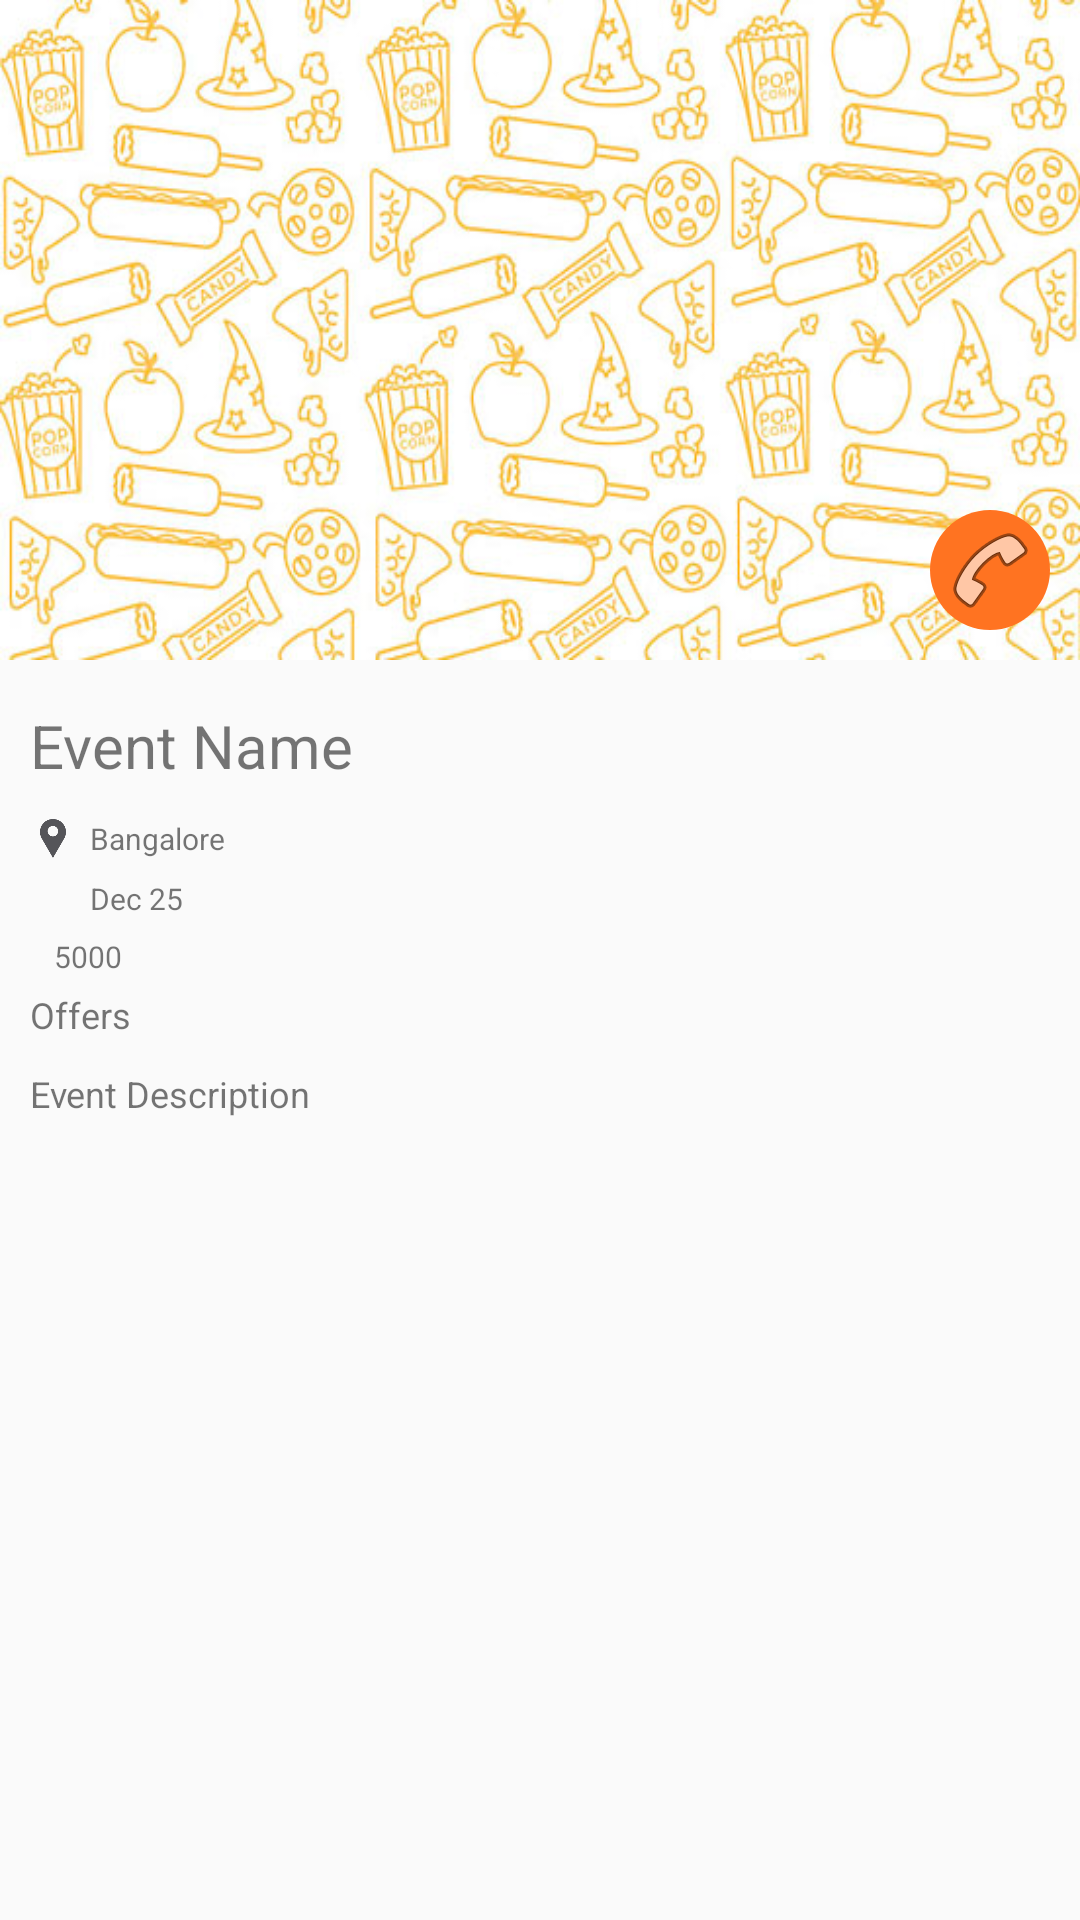

Icons on this 1080px×1920px Android screen, each with its box as (x1, y1, x2, y2):
call: (930, 510, 1050, 630)
place: (40, 819, 66, 858)
